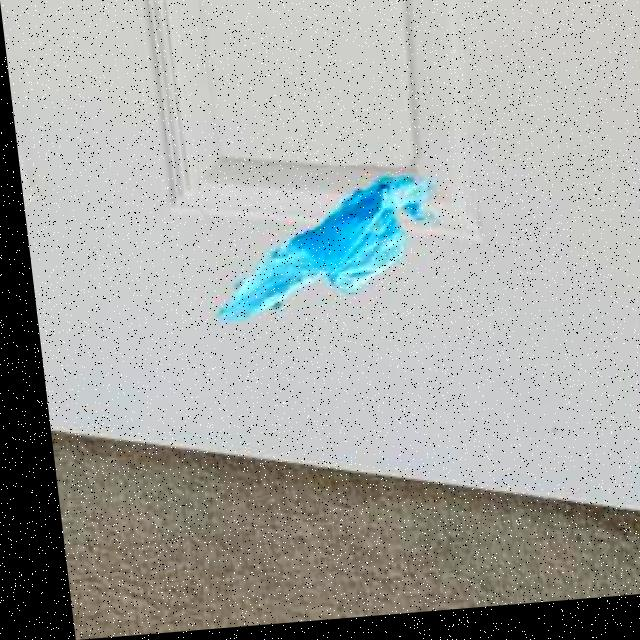litter: (193, 164, 474, 375)
